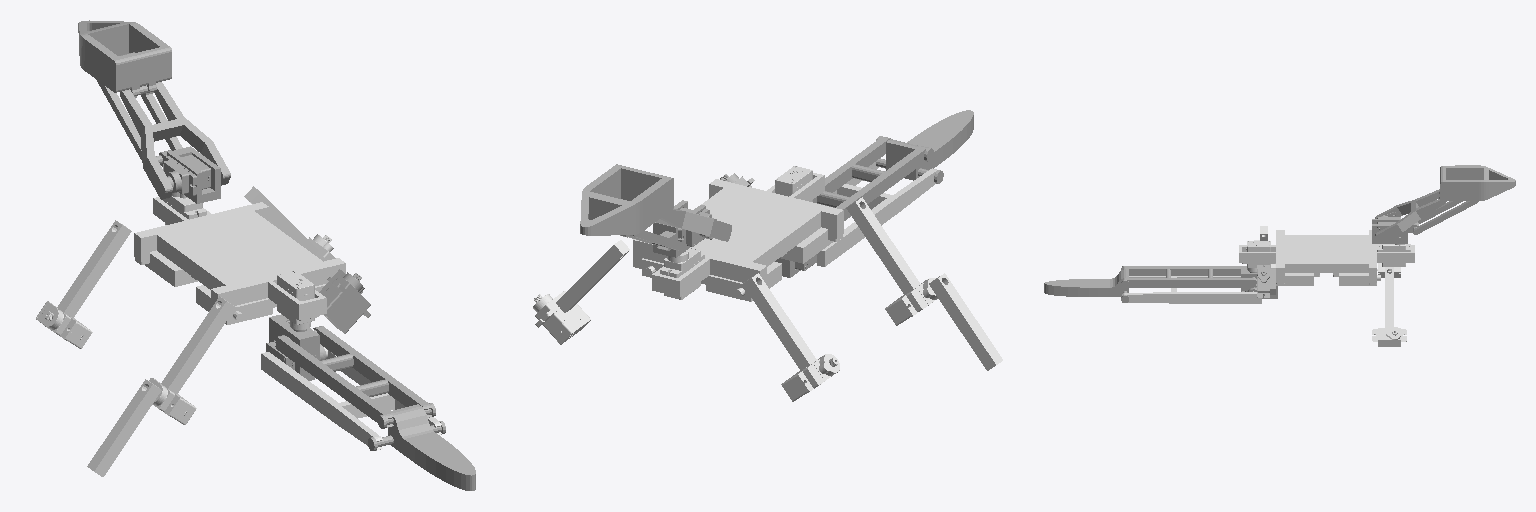
--- Render facts (derived) ---
The picture shows the robot from 3 angles, left to right: view 1: azimuth 30°, elevation 25°; view 2: azimuth 150°, elevation 25°; view 3: azimuth 270°, elevation 25°; orthographic projection.
Robot: barabasz — 23 links, 22 joints (22 continuous); root link MainBoard; default pose: every joint at zero.
Visible links, largest first — view 1: MainBoard, HEADParallelLink, TAILstArmParallelLink, HEADstArmLink, TAILstArmLink, FLstArmLink, RLstArmLink, TAILParallelLink, HEADndServoLink, RLndArmLink, RRndServoLink, TailndServoLink (+4 smaller); view 2: MainBoard, FLstArmLink, TAILstArmParallelLink, RLstArmLink, FRstArmLink, HEADParallelLink, TAILstArmLink, HEADLink, RLndArmLink, TAILParallelLink, TAILLink, HEADstArmLink (+2 smaller); view 3: MainBoard, TAILstArmParallelLink, HEADLink, TAILstArmLink, TAILParallelLink, HEADstArmLink, FRstArmLink, HEADstArmParallelLink, HEADndServoLink, RRndServoLink.
Boxes of the visible links, <box> form: MainBoard: <box>134,192,345,329</box>; HEADParallelLink: <box>78,23,171,97</box>; TAILstArmParallelLink: <box>275,326,431,427</box>; HEADstArmLink: <box>120,82,230,199</box>; TAILstArmLink: <box>261,347,441,450</box>; FLstArmLink: <box>36,220,131,348</box>; RLstArmLink: <box>149,296,235,424</box>; TAILParallelLink: <box>371,403,475,490</box>; HEADndServoLink: <box>159,146,220,203</box>; RLndArmLink: <box>87,379,161,476</box>; RRndServoLink: <box>319,269,370,333</box>; TailndServoLink: <box>266,314,325,380</box>; MainBoard: <box>633,166,843,301</box>; FLstArmLink: <box>743,273,839,401</box>; TAILstArmParallelLink: <box>813,137,928,220</box>; RLstArmLink: <box>846,197,937,325</box>; FRstArmLink: <box>533,240,629,344</box>; HEADParallelLink: <box>588,164,673,236</box>; TAILstArmLink: <box>817,162,936,266</box>; HEADLink: <box>580,165,661,237</box>; RLndArmLink: <box>929,273,1002,370</box>; TAILParallelLink: <box>876,110,973,179</box>; TAILLink: <box>876,115,973,183</box>; HEADstArmLink: <box>656,208,731,241</box>; MainBoard: <box>1239,230,1414,285</box>; TAILstArmParallelLink: <box>1122,266,1256,287</box>; HEADLink: <box>1439,168,1515,201</box>; TAILstArmLink: <box>1122,276,1261,303</box>; TAILParallelLink: <box>1044,266,1128,302</box>; HEADstArmLink: <box>1375,189,1445,243</box>; FRstArmLink: <box>1372,267,1406,346</box>; HEADstArmParallelLink: <box>1413,201,1477,234</box>; HEADndServoLink: <box>1372,215,1418,243</box>; RRndServoLink: <box>1257,265,1275,297</box>.
Size in the robot's own frame: 0.2323 by 0.4435 by 0.1644 metres.
16 mesh visuals loaded from 23 distinct referenced files (16 binary STL); not drawn: 7 (reference not matched to a file when rendering).

The robot description file, URDF, robot "barabasz":
<?xml version="1.0" encoding="utf-8"?>
<!-- This URDF was automatically created by SolidWorks to URDF Exporter! Originally created by Stephen Brawner ([email redacted])
     Commit Version: 1.5.0-0-g9aa0fdb  Build Version: 1.5.7004.21443
     For more information, please see http://wiki.ros.org/sw_urdf_exporter -->
<robot
  name="barabasz">
  <link
    name="MainBoard">
    <inertial>
      <origin
        xyz="0.0320000193091435 0.0395027228412031 -0.00887228498305923"
        rpy="0 0 0" />
      <mass
        value="0.129368445562822" />
      <inertia
        ixx="8.48084091160014E-05"
        ixy="2.93923351652188E-15"
        ixz="2.06187013678502E-15"
        iyy="3.18110038223056E-05"
        iyz="-1.94866907025266E-08"
        izz="0.000114276211083158" />
    </inertial>
    <visual>
      <origin
        xyz="0 0 0"
        rpy="0 0 0" />
      <geometry>
        <mesh
          filename="package://lizardv3_description/meshes/MainBoard.STL" />
      </geometry>
      <material
        name="">
        <color
          rgba="0.92156862745098 0.92156862745098 0.92156862745098 1" />
      </material>
    </visual>
    <collision>
      <origin
        xyz="0 0 0"
        rpy="0 0 0" />
      <geometry>
        <mesh
          filename="package://lizardv3_description/meshes/MainBoard.STL" />
      </geometry>
    </collision>
  </link>
  <link
    name="FRndServoLink">
    <inertial>
      <origin
        xyz="0.00980168634688897 0.00502207563388984 0.00196275735380311"
        rpy="0 0 0" />
      <mass
        value="0.00898215948151009" />
      <inertia
        ixx="5.02863360750936E-07"
        ixy="4.18675151934187E-10"
        ixz="3.94807696352951E-11"
        iyy="3.74381836870733E-07"
        iyz="-1.31121128677089E-07"
        izz="3.05060718459654E-07" />
    </inertial>
    <visual>
      <origin
        xyz="0 0 0"
        rpy="0 0 0" />
      <geometry>
        <mesh
          filename="package://lizardv3_description/meshes/FRndServoLink.STL" />
      </geometry>
      <material
        name="">
        <color
          rgba="0.749019607843137 0.749019607843137 0.749019607843137 1" />
      </material>
    </visual>
    <collision>
      <origin
        xyz="0 0 0"
        rpy="0 0 0" />
      <geometry>
        <mesh
          filename="package://lizardv3_description/meshes/FRndServoLink.STL" />
      </geometry>
    </collision>
  </link>
  <joint
    name="FRndServoJnt"
    type="continuous">
    <origin
      xyz="0.0615 0.087 -0.016"
      rpy="3.1416 0 1.5708" />
    <parent
      link="MainBoard" />
    <child
      link="FRndServoLink" />
    <axis
      xyz="-1 0 0" />
    <safety_controller
      k_velocity="0" />
  </joint>
  <link
    name="FRstArmLink">
    <inertial>
      <origin
        xyz="-0.050087587173191 0.00194912579241757 0.000253934431876823"
        rpy="0 0 0" />
      <mass
        value="0.0107279118401016" />
      <inertia
        ixx="4.12846705736316E-07"
        ixy="-3.43063723092757E-12"
        ixz="7.44940299377242E-12"
        iyy="1.46713624981902E-06"
        iyz="-9.74334437552982E-09"
        izz="1.1962482651399E-06" />
    </inertial>
    <visual>
      <origin
        xyz="0 0 0"
        rpy="0 0 0" />
      <geometry>
        <mesh
          filename="package://lizardv3_description/meshes/FRstArmLink.STL" />
      </geometry>
      <material
        name="">
        <color
          rgba="0.92156862745098 0.92156862745098 0.92156862745098 1" />
      </material>
    </visual>
    <collision>
      <origin
        xyz="0 0 0"
        rpy="0 0 0" />
      <geometry>
        <mesh
          filename="package://lizardv3_description/meshes/FRstArmLink.STL" />
      </geometry>
    </collision>
  </link>
  <joint
    name="FRstArmJnt"
    type="continuous">
    <origin
      xyz="0.01165 0.012199 -0.010432"
      rpy="-1.5708 0.87266 -1.5708" />
    <parent
      link="FRndServoLink" />
    <child
      link="FRstArmLink" />
    <axis
      xyz="0 -1 0" />
    <safety_controller
      k_velocity="0" />
  </joint>
  <link
    name="FRndArmLink">
    <inertial>
      <origin
        xyz="1.66533453693773E-16 0.00400000000000231 0.0271089217366474"
        rpy="0 0 0" />
      <mass
        value="0.0036829203673205" />
      <inertia
        ixx="1.06068205884601E-06"
        ixy="-2.61078880837049E-23"
        ixz="-3.15670781781632E-21"
        iyy="1.0612743799609E-06"
        iyz="-9.53408506083935E-23"
        izz="3.98768050329809E-08" />
    </inertial>
    <visual>
      <origin
        xyz="0 0 0"
        rpy="0 0 0" />
      <geometry>
        <mesh
          filename="package://lizardv3_description/meshes/FRndArmLink.STL" />
      </geometry>
      <material
        name="">
        <color
          rgba="0.92156862745098 0.92156862745098 0.92156862745098 1" />
      </material>
    </visual>
    <collision>
      <origin
        xyz="0 0 0"
        rpy="0 0 0" />
      <geometry>
        <mesh
          filename="package://lizardv3_description/meshes/FRndArmLink.STL" />
      </geometry>
    </collision>
  </link>
  <joint
    name="FRndArmJnt"
    type="continuous">
    <origin
      xyz="-0.0621 0.0150500000002124 0.00515000000000268"
      rpy="1.64274156972154 -1.57079631189374 -1.64274415968957" />
    <parent
      link="FRstArmLink" />
    <child
      link="FRndArmLink" />
    <axis
      xyz="0 -1 0" />
    <safety_controller
      k_velocity="0" />
  </joint>
  <link
    name="FLndServoLink">
    <inertial>
      <origin
        xyz="0.0050221 0.0098014 0.0019628"
        rpy="0 0 0" />
      <mass
        value="0.0089822" />
      <inertia
        ixx="3.7438E-07"
        ixy="4.0384E-10"
        ixz="-1.3112E-07"
        iyy="5.0286E-07"
        iyz="3.248E-11"
        izz="3.0506E-07" />
    </inertial>
    <visual>
      <origin
        xyz="0 0 0"
        rpy="0 0 0" />
      <geometry>
        <mesh
          filename="package://lizardv3_description/meshes/FLndServoLink.STL" />
      </geometry>
      <material
        name="">
        <color
          rgba="1 0.94902 0.9098 1" />
      </material>
    </visual>
    <collision>
      <origin
        xyz="0 0 0"
        rpy="0 0 0" />
      <geometry>
        <mesh
          filename="package://lizardv3_description/meshes/FLndServoLink.STL" />
      </geometry>
    </collision>
  </link>
  <joint
    name="FLndServoJnt"
    type="continuous">
    <origin
      xyz="0.00250000000000065 0.0869999999999997 -0.016"
      rpy="-3.14159265358979 0 3.14159265358979" />
    <parent
      link="MainBoard" />
    <child
      link="FLndServoLink" />
    <axis
      xyz="0 -1 0" />
    <safety_controller
      k_velocity="0" />
  </joint>
  <link
    name="FLstArmLink">
    <inertial>
      <origin
        xyz="-0.0500875873328301 0.00194912587509953 0.000253934473360917"
        rpy="0 0 0" />
      <mass
        value="0.0107279119437584" />
      <inertia
        ixx="4.12846707912603E-07"
        ixy="-3.42949742563357E-12"
        ixz="7.45129949397818E-12"
        iyy="1.46713625367284E-06"
        iyz="-9.74334532607003E-09"
        izz="1.19624826799648E-06" />
    </inertial>
    <visual>
      <origin
        xyz="0 0 0"
        rpy="0 0 0" />
      <geometry>
        <mesh
          filename="package://lizardv3_description/meshes/FLstArmLink.STL" />
      </geometry>
      <material
        name="">
        <color
          rgba="0.92156862745098 0.92156862745098 0.92156862745098 1" />
      </material>
    </visual>
    <collision>
      <origin
        xyz="0 0 0"
        rpy="0 0 0" />
      <geometry>
        <mesh
          filename="package://lizardv3_description/meshes/FLstArmLink.STL" />
      </geometry>
    </collision>
  </link>
  <joint
    name="FLstArmJnt"
    type="continuous">
    <origin
      xyz="0.0121985951706078 0.0116500000000019 -0.0104316478019355"
      rpy="-1.57079632679489 0.872664625997144 3.14159265358978" />
    <parent
      link="FLndServoLink" />
    <child
      link="FLstArmLink" />
    <axis
      xyz="0 -1 0" />
    <safety_controller
      k_velocity="0" />
  </joint>
  <link
    name="FLndArmLink">
    <inertial>
      <origin
        xyz="1.77635683940025E-15 0.00400000000000253 0.0271089217366467"
        rpy="0 0 0" />
      <mass
        value="0.00368292036732051" />
      <inertia
        ixx="1.06068205884601E-06"
        ixy="-1.47083052669585E-23"
        ixz="-2.75851809589364E-22"
        iyy="1.06127437996091E-06"
        iyz="1.81076136779072E-21"
        izz="3.98768050329816E-08" />
    </inertial>
    <visual>
      <origin
        xyz="0 0 0"
        rpy="0 0 0" />
      <geometry>
        <mesh
          filename="package://lizardv3_description/meshes/FLndArmLink.STL" />
      </geometry>
      <material
        name="">
        <color
          rgba="0.92156862745098 0.92156862745098 0.92156862745098 1" />
      </material>
    </visual>
    <collision>
      <origin
        xyz="0 0 0"
        rpy="0 0 0" />
      <geometry>
        <mesh
          filename="package://lizardv3_description/meshes/FLndArmLink.STL" />
      </geometry>
    </collision>
  </link>
  <joint
    name="FLndArmJnt"
    type="continuous">
    <origin
      xyz="-0.0621 0.01505 0.00515"
      rpy="-1.9544 -1.5708 1.9544" />
    <parent
      link="FLstArmLink" />
    <child
      link="FLndArmLink" />
    <axis
      xyz="0 -1 0" />
    <safety_controller
      k_velocity="0" />
  </joint>
  <link
    name="RLndServoLink">
    <inertial>
      <origin
        xyz="0.0050221 0.0098017 -0.0019628"
        rpy="0 0 0" />
      <mass
        value="0.0089822" />
      <inertia
        ixx="3.7438E-07"
        ixy="4.1867E-10"
        ixz="1.3112E-07"
        iyy="5.0286E-07"
        iyz="-3.948E-11"
        izz="3.0506E-07" />
    </inertial>
    <visual>
      <origin
        xyz="0 0 0"
        rpy="0 0 0" />
      <geometry>
        <mesh
          filename="package://lizardv3_description/meshes/RLndServoLink.STL" />
      </geometry>
      <material
        name="">
        <color
          rgba="1 0.94902 0.9098 1" />
      </material>
    </visual>
    <collision>
      <origin
        xyz="0 0 0"
        rpy="0 0 0" />
      <geometry>
        <mesh
          filename="package://lizardv3_description/meshes/RLndServoLink.STL" />
      </geometry>
    </collision>
  </link>
  <joint
    name="RLndServoJnt"
    type="continuous">
    <origin
      xyz="0.00249999999999984 -0.00799999999999976 -0.016"
      rpy="0 0 -3.14159265358979" />
    <parent
      link="MainBoard" />
    <child
      link="RLndServoLink" />
    <axis
      xyz="0 -1 0" />
    <safety_controller
      k_velocity="0" />
  </joint>
  <link
    name="RLstArmLink">
    <inertial>
      <origin
        xyz="-0.0500875871726907 0.00194912579210623 0.000253934431699035"
        rpy="0 0 0" />
      <mass
        value="0.010727911839871" />
      <inertia
        ixx="4.12846705720797E-07"
        ixy="-3.43064372608672E-12"
        ixz="7.44939574750122E-12"
        iyy="1.46713624980483E-06"
        iyz="-9.74334437108359E-09"
        izz="1.1962482651381E-06" />
    </inertial>
    <visual>
      <origin
        xyz="0 0 0"
        rpy="0 0 0" />
      <geometry>
        <mesh
          filename="package://lizardv3_description/meshes/RLstArmLink.STL" />
      </geometry>
      <material
        name="">
        <color
          rgba="0.92156862745098 0.92156862745098 0.92156862745098 1" />
      </material>
    </visual>
    <collision>
      <origin
        xyz="0 0 0"
        rpy="0 0 0" />
      <geometry>
        <mesh
          filename="package://lizardv3_description/meshes/RLstArmLink.STL" />
      </geometry>
    </collision>
  </link>
  <joint
    name="RLstArmJnt"
    type="continuous">
    <origin
      xyz="0.0121985951706048 0.0116500000000019 0.0104316478019361"
      rpy="1.57079632679489 -0.872664625997154 3.14159265358979" />
    <parent
      link="RLndServoLink" />
    <child
      link="RLstArmLink" />
    <axis
      xyz="0 -1 0" />
    <safety_controller
      k_velocity="0" />
  </joint>
  <link
    name="RLndArmLink">
    <inertial>
      <origin
        xyz="-6.07153216591882E-16 0.00400000000000033 0.027108921736649"
        rpy="0 0 0" />
      <mass
        value="0.00368292036732051" />
      <inertia
        ixx="1.06068205884601E-06"
        ixy="-8.68539643180679E-24"
        ixz="-4.73767695839747E-22"
        iyy="1.0612743799609E-06"
        iyz="2.94088321938143E-21"
        izz="3.98768050329813E-08" />
    </inertial>
    <visual>
      <origin
        xyz="0 0 0"
        rpy="0 0 0" />
      <geometry>
        <mesh
          filename="package://lizardv3_description/meshes/RLndArmLink.STL" />
      </geometry>
      <material
        name="">
        <color
          rgba="0.92156862745098 0.92156862745098 0.92156862745098 1" />
      </material>
    </visual>
    <collision>
      <origin
        xyz="0 0 0"
        rpy="0 0 0" />
      <geometry>
        <mesh
          filename="package://lizardv3_description/meshes/RLndArmLink.STL" />
      </geometry>
    </collision>
  </link>
  <joint
    name="RLndArmJnt"
    type="continuous">
    <origin
      xyz="-0.0621 0.0150500000000294 0.00514999999999813"
      rpy="1.65099348915861 -1.57079631189374 -1.65101528723285" />
    <parent
      link="RLstArmLink" />
    <child
      link="RLndArmLink" />
    <axis
      xyz="0 -1 0" />
    <safety_controller
      k_velocity="0" />
  </joint>
  <link
    name="RRndServoLink">
    <inertial>
      <origin
        xyz="0.0050221 0.0098014 0.0019628"
        rpy="0 0 0" />
      <mass
        value="0.0089822" />
      <inertia
        ixx="3.7438E-07"
        ixy="4.0384E-10"
        ixz="-1.3112E-07"
        iyy="5.0286E-07"
        iyz="3.2482E-11"
        izz="3.0506E-07" />
    </inertial>
    <visual>
      <origin
        xyz="0 0 0"
        rpy="0 0 0" />
      <geometry>
        <mesh
          filename="package://lizardv3_description/meshes/RRndServoLink.STL" />
      </geometry>
      <material
        name="">
        <color
          rgba="0.74902 0.74902 0.74902 1" />
      </material>
    </visual>
    <collision>
      <origin
        xyz="0 0 0"
        rpy="0 0 0" />
      <geometry>
        <mesh
          filename="package://lizardv3_description/meshes/RRndServoLink.STL" />
      </geometry>
    </collision>
  </link>
  <joint
    name="RRndServoJnt"
    type="continuous">
    <origin
      xyz="0.0614999999999987 -0.00800000000000062 -0.0160000000000014"
      rpy="3.14159265358979 0 0" />
    <parent
      link="MainBoard" />
    <child
      link="RRndServoLink" />
    <axis
      xyz="0 -1 0" />
    <safety_controller
      k_velocity="0" />
  </joint>
  <link
    name="RRstArmLink">
    <inertial>
      <origin
        xyz="-0.050088 0.0019491 0.00025393"
        rpy="0 0 0" />
      <mass
        value="0.010728" />
      <inertia
        ixx="4.1285E-07"
        ixy="-3.4306E-12"
        ixz="7.4494E-12"
        iyy="1.4671E-06"
        iyz="-9.7433E-09"
        izz="1.1962E-06" />
    </inertial>
    <visual>
      <origin
        xyz="0 0 0"
        rpy="0 0 0" />
      <geometry>
        <mesh
          filename="package://lizardv3_description/meshes/RRstArmLink.STL" />
      </geometry>
      <material
        name="">
        <color
          rgba="0.92157 0.92157 0.92157 1" />
      </material>
    </visual>
    <collision>
      <origin
        xyz="0 0 0"
        rpy="0 0 0" />
      <geometry>
        <mesh
          filename="package://lizardv3_description/meshes/RRstArmLink.STL" />
      </geometry>
    </collision>
  </link>
  <joint
    name="RRstArmJnt"
    type="continuous">
    <origin
      xyz="0.0121985951706034 0.0116500000000019 -0.0104316478019393"
      rpy="-1.57079632679489 0.872664625997156 3.14159265358979" />
    <parent
      link="RRndServoLink" />
    <child
      link="RRstArmLink" />
    <axis
      xyz="0 -1 0" />
    <safety_controller
      k_velocity="0" />
  </joint>
  <link
    name="RRndArmLink">
    <inertial>
      <origin
        xyz="-2.77555756156289E-17 0.00400000000000003 0.0271089217366482"
        rpy="0 0 0" />
      <mass
        value="0.00368292036732051" />
      <inertia
        ixx="1.06068205884601E-06"
        ixy="-4.80798731046447E-24"
        ixz="1.0857149436542E-21"
        iyy="1.0612743799609E-06"
        iyz="-5.94009095143748E-22"
        izz="3.9876805032981E-08" />
    </inertial>
    <visual>
      <origin
        xyz="0 0 0"
        rpy="0 0 0" />
      <geometry>
        <mesh
          filename="package://lizardv3_description/meshes/RRndArmLink.STL" />
      </geometry>
      <material
        name="">
        <color
          rgba="0.92156862745098 0.92156862745098 0.92156862745098 1" />
      </material>
    </visual>
    <collision>
      <origin
        xyz="0 0 0"
        rpy="0 0 0" />
      <geometry>
        <mesh
          filename="package://lizardv3_description/meshes/RRndArmLink.STL" />
      </geometry>
    </collision>
  </link>
  <joint
    name="RRndArmJnt"
    type="continuous">
    <origin
      xyz="-0.0621 0.01505 0.00515"
      rpy="-1.3846 -1.5708 1.3846" />
    <parent
      link="RRstArmLink" />
    <child
      link="RRndArmLink" />
    <axis
      xyz="0 -1 0" />
    <safety_controller
      k_velocity="0" />
  </joint>
  <link
    name="HEADndServoLink">
    <inertial>
      <origin
        xyz="0.00817073701079046 -0.00971625046859658 0.00145467719884415"
        rpy="0 0 0" />
      <mass
        value="0.0121934443229411" />
      <inertia
        ixx="4.23955060797601E-07"
        ixy="-9.10853302793211E-08"
        ixz="-1.63814913779297E-08"
        iyy="1.21995274972379E-06"
        iyz="-8.11641325007153E-09"
        izz="1.31199137763511E-06" />
    </inertial>
    <visual>
      <origin
        xyz="0 0 0"
        rpy="0 0 0" />
      <geometry>
        <mesh
          filename="package://lizardv3_description/meshes/HEADndServoLink.STL" />
      </geometry>
      <material
        name="">
        <color
          rgba="0.749019607843137 0.749019607843137 0.749019607843137 1" />
      </material>
    </visual>
    <collision>
      <origin
        xyz="0 0 0"
        rpy="0 0 0" />
      <geometry>
        <mesh
          filename="package://lizardv3_description/meshes/HEADndServoLink.STL" />
      </geometry>
    </collision>
  </link>
  <joint
    name="HEADndServoJnt"
    type="continuous">
    <origin
      xyz="0.0319999999999842 0.108299999999999 0.0110499999999986"
      rpy="-1.5707963267949 0 -1.5707963267949" />
    <parent
      link="MainBoard" />
    <child
      link="HEADndServoLink" />
    <axis
      xyz="0 1 0" />
    <safety_controller
      k_velocity="0" />
  </joint>
  <link
    name="HEADstArmLink">
    <inertial>
      <origin
        xyz="-0.025127 0.013481 0.014507"
        rpy="0 0 0" />
      <mass
        value="0.0078839" />
      <inertia
        ixx="2.3678E-06"
        ixy="-8.5123E-08"
        ixz="1.304E-06"
        iyy="3.1243E-06"
        iyz="4.9146E-08"
        izz="3.8735E-06" />
    </inertial>
    <visual>
      <origin
        xyz="0 0 0"
        rpy="0 0 0" />
      <geometry>
        <mesh
          filename="package://lizardv3_description/meshes/HEADstArmLink.STL" />
      </geometry>
      <material
        name="">
        <color
          rgba="0.74902 0.74902 0.74902 1" />
      </material>
    </visual>
    <collision>
      <origin
        xyz="0 0 0"
        rpy="0 0 0" />
      <geometry>
        <mesh
          filename="package://lizardv3_description/meshes/HEADstArmLink.STL" />
      </geometry>
    </collision>
  </link>
  <joint
    name="HEADstArmJnt"
    type="continuous">
    <origin
      xyz="0.015 -0.0114 -0.01455"
      rpy="1.5708 0 0" />
    <parent
      link="HEADndServoLink" />
    <child
      link="HEADstArmLink" />
    <axis
      xyz="0 1 0" />
    <safety_controller
      k_velocity="0" />
  </joint>
  <link
    name="HEADLink">
    <inertial>
      <origin
        xyz="0.0554988766394613 0.00799999970901315 -0.00147454938363152"
        rpy="0 0 0" />
      <mass
        value="0.0177300364754162" />
      <inertia
        ixx="4.41581214683472E-06"
        ixy="-1.54454845134354E-12"
        ixz="2.20726693817977E-06"
        iyy="7.03739587968143E-06"
        iyz="4.16679611856128E-13"
        izz="8.27777171343773E-06" />
    </inertial>
    <visual>
      <origin
        xyz="0 0 0"
        rpy="0 0 0" />
      <geometry>
        <mesh
          filename="package://lizardv3_description/meshes/HEADLink.STL" />
      </geometry>
      <material
        name="">
        <color
          rgba="0.749019607843137 0.749019607843137 0.749019607843137 1" />
      </material>
    </visual>
    <collision>
      <origin
        xyz="0 0 0"
        rpy="0 0 0" />
      <geometry>
        <mesh
          filename="package://lizardv3_description/meshes/HEADLink.STL" />
      </geometry>
    </collision>
  </link>
  <joint
    name="HEADJnt"
    type="continuous">
    <origin
      xyz="-0.029976 0.0215 0.02308"
      rpy="0 -0.43294 -3.1416" />
    <parent
      link="HEADstArmLink" />
    <child
      link="HEADLink" />
    <axis
      xyz="0 1 0" />
    <safety_controller
      k_velocity="0" />
  </joint>
  <link
    name="HEADstArmParallelLink">
    <inertial>
      <origin
        xyz="-0.0122501451765017 0.00455000000000488 0.035245741804803"
        rpy="0 0 0" />
      <mass
        value="0.00373003311748238" />
      <inertia
        ixx="1.76654564691896E-06"
        ixy="1.02089597225529E-21"
        ixz="8.1677668885244E-07"
        iyy="1.9009569588329E-06"
        iyz="-1.64562412988596E-21"
        izz="8.23435633498772E-07" />
    </inertial>
    <visual>
      <origin
        xyz="0 0 0"
        rpy="0 0 0" />
      <geometry>
        <mesh
          filename="package://lizardv3_description/meshes/HEADstArmParallelLink.STL" />
      </geometry>
      <material
        name="">
        <color
          rgba="0.749019607843137 0.749019607843137 0.749019607843137 1" />
      </material>
    </visual>
    <collision>
      <origin
        xyz="0 0 0"
        rpy="0 0 0" />
      <geometry>
        <mesh
          filename="package://lizardv3_description/meshes/HEADstArmParallelLink.STL" />
      </geometry>
    </collision>
  </link>
  <joint
    name="HEADstArmParallelLJnt"
    type="continuous">
    <origin
      xyz="-0.0079 -0.0155 0.0035"
      rpy="-1.5708 0 1.5708" />
    <parent
      link="HEADndServoLink" />
    <child
      link="HEADstArmParallelLink" />
    <axis
      xyz="0 1 0" />
    <safety_controller
      k_velocity="0" />
  </joint>
  <link
    name="HEADParallelLink">
    <inertial>
      <origin
        xyz="-0.01342 -0.0002311 0.0126"
        rpy="0 0 0" />
      <mass
        value="0.01773" />
      <inertia
        ixx="7.8539E-06"
        ixy="2.5011E-06"
        ixz="-2.7193E-07"
        iyy="4.8653E-06"
        iyz="2.3576E-07"
        izz="7.0118E-06" />
    </inertial>
    <visual>
      <origin
        xyz="0 0 0"
        rpy="0 0 0" />
      <geometry>
        <mesh
          filename="package://lizardv3_description/meshes/HEADParallelLink.STL" />
      </geometry>
      <material
        name="">
        <color
          rgba="0.74902 0.74902 0.74902 1" />
      </material>
    </visual>
    <collision>
      <origin
        xyz="0 0 0"
        rpy="0 0 0" />
      <geometry>
        <mesh
          filename="package://lizardv3_description/meshes/HEADParallelLink.STL" />
      </geometry>
    </collision>
  </link>
  <joint
    name="HEADParallelJnt"
    type="continuous">
    <origin
      xyz="-0.0285 -0.00795 0.063391"
      rpy="-1.4626 -0.52244 0.00014562" />
    <parent
      link="HEADstArmParallelLink" />
    <child
      link="HEADParallelLink" />
    <axis
      xyz="0.0001262 0.10805 0.99415" />
    <safety_controller
      k_velocity="0" />
  </joint>
  <link
    name="TailndServoLink">
    <inertial>
      <origin
        xyz="-0.0048574 -0.016189 0.0010767"
        rpy="0 0 0" />
      <mass
        value="0.015139" />
      <inertia
        ixx="7.7721E-07"
        ixy="-7.035E-09"
        ixz="1.3267E-08"
        iyy="1.4848E-06"
        iyz="3.8044E-08"
        izz="1.876E-06" />
    </inertial>
    <visual>
      <origin
        xyz="0 0 0"
        rpy="0 0 0" />
      <geometry>
        <mesh
          filename="package://lizardv3_description/meshes/TailndServoLink.STL" />
      </geometry>
      <material
        name="">
        <color
          rgba="0.74902 0.74902 0.74902 1" />
      </material>
    </visual>
    <collision>
      <origin
        xyz="0 0 0"
        rpy="0 0 0" />
      <geometry>
        <mesh
          filename="package://lizardv3_description/meshes/TailndServoLink.STL" />
      </geometry>
    </collision>
  </link>
  <joint
    name="TailndServoJnt"
    type="continuous">
    <origin
      xyz="0.032 -0.02925 -0.02105"
      rpy="1.5708 0 -1.5708" />
    <parent
      link="MainBoard" />
    <child
      link="TailndServoLink" />
    <axis
      xyz="0 1 0" />
    <safety_controller
      k_velocity="0" />
  </joint>
  <link
    name="TAILstArmLink">
    <inertial>
      <origin
        xyz="0.0054385 0.018255 0.042426"
        rpy="0 0 0" />
      <mass
        value="0.013285" />
      <inertia
        ixx="1.5067E-05"
        ixy="-1.6352E-10"
        ixz="1.9782E-07"
        iyy="1.9317E-05"
        iyz="1.2276E-08"
        izz="4.4632E-06" />
    </inertial>
    <visual>
      <origin
        xyz="0 0 0"
        rpy="0 0 0" />
      <geometry>
        <mesh
          filename="package://lizardv3_description/meshes/TAILstArmLink.STL" />
      </geometry>
      <material
        name="">
        <color
          rgba="0.92157 0.92157 0.92157 1" />
      </material>
    </visual>
    <collision>
      <origin
        xyz="0 0 0"
        rpy="0 0 0" />
      <geometry>
        <mesh
          filename="package://lizardv3_description/meshes/TAILstArmLink.STL" />
      </geometry>
    </collision>
  </link>
  <joint
    name="TAILstArmJnt"
    type="continuous">
    <origin
      xyz="0.01235 -0.002 -0.00545"
      rpy="1.019 -1.5708 2.1225" />
    <parent
      link="TailndServoLink" />
    <child
      link="TAILstArmLink" />
    <axis
      xyz="1 0 0" />
    <safety_controller
      k_velocity="0" />
  </joint>
  <link
    name="TAILLink">
    <inertial>
      <origin
        xyz="0.0693819489154556 0.00236468450873411 0.0174996318739005"
        rpy="0 0 0" />
      <mass
        value="0.0170255571844121" />
      <inertia
        ixx="1.10748675129764E-06"
        ixy="5.92827428438699E-07"
        ixz="2.68673058943583E-10"
        iyy="9.48088608953699E-06"
        iyz="-2.33873685029435E-12"
        izz="9.05157957329576E-06" />
    </inertial>
    <visual>
      <origin
        xyz="0 0 0"
        rpy="0 0 0" />
      <geometry>
        <mesh
          filename="package://lizardv3_description/meshes/TAILLink.STL" />
      </geometry>
      <material
        name="">
        <color
          rgba="0.749019607843137 0.749019607843137 0.749019607843137 1" />
      </material>
    </visual>
    <collision>
      <origin
        xyz="0 0 0"
        rpy="0 0 0" />
      <geometry>
        <mesh
          filename="package://lizardv3_description/meshes/TAILLink.STL" />
      </geometry>
    </collision>
  </link>
  <joint
    name="TAILJnt"
    type="continuous">
    <origin
      xyz="-0.01205 0.018236 0.06515"
      rpy="-1.5708 -1.57 -1.5708" />
    <parent
      link="TAILstArmLink" />
    <child
      link="TAILLink" />
    <axis
      xyz="0 0 1" />
    <safety_controller
      k_velocity="0" />
  </joint>
  <link
    name="TAILstArmParallelLink">
    <inertial>
      <origin
        xyz="0.00570000000000003 -0.04815 0.00754999999999956"
        rpy="0 0 0" />
      <mass
        value="0.0110994579255875" />
      <inertia
        ixx="1.38627444069151E-05"
        ixy="2.62740275207101E-21"
        ixz="-4.75659441497189E-22"
        iyy="1.63407638509854E-06"
        iyz="-3.12746649848643E-21"
        izz="1.23476561550545E-05" />
    </inertial>
    <visual>
      <origin
        xyz="0 0 0"
        rpy="0 0 0" />
      <geometry>
        <mesh
          filename="package://lizardv3_description/meshes/TAILstArmParallelLink.STL" />
      </geometry>
      <material
        name="">
        <color
          rgba="0.749019607843137 0.749019607843137 0.749019607843137 1" />
      </material>
    </visual>
    <collision>
      <origin
        xyz="0 0 0"
        rpy="0 0 0" />
      <geometry>
        <mesh
          filename="package://lizardv3_description/meshes/TAILstArmParallelLink.STL" />
      </geometry>
    </collision>
  </link>
  <joint
    name="TAILstArmParallelJnt"
    type="continuous">
    <origin
      xyz="0.01235 -0.002 0.00755"
      rpy="-3.1416 0 -1.5708" />
    <parent
      link="TailndServoLink" />
    <child
      link="TAILstArmParallelLink" />
    <axis
      xyz="0 0 -1" />
    <safety_controller
      k_velocity="0" />
  </joint>
  <link
    name="TAILParallelLink">
    <inertial>
      <origin
        xyz="0.0638799444695541 -0.0101139262583112 0.00999963187390017"
        rpy="0 0 0" />
      <mass
        value="0.0170255571844121" />
      <inertia
        ixx="1.10651259072902E-06"
        ixy="5.85906456236652E-07"
        ixz="2.68674900034565E-10"
        iyy="9.48186025010561E-06"
        iyz="-2.11669219327405E-12"
        izz="9.05157957329576E-06" />
    </inertial>
    <visual>
      <origin
        xyz="0 0 0"
        rpy="0 0 0" />
      <geometry>
        <mesh
          filename="package://lizardv3_description/meshes/TAILParallelLink.STL" />
      </geometry>
      <material
        name="">
        <color
          rgba="0.749019607843137 0.749019607843137 0.749019607843137 1" />
      </material>
    </visual>
    <collision>
      <origin
        xyz="0 0 0"
        rpy="0 0 0" />
      <geometry>
        <mesh
          filename="package://lizardv3_description/meshes/TAILParallelLink.STL" />
      </geometry>
    </collision>
  </link>
  <joint
    name="TAILParallelJnt"
    type="continuous">
    <origin
      xyz="0.0057 -0.07065 0.01755"
      rpy="-3.1416 0 -1.5708" />
    <parent
      link="TAILstArmParallelLink" />
    <child
      link="TAILParallelLink" />
    <axis
      xyz="0 0 1" />
    <safety_controller
      k_velocity="0" />
  </joint>

  <!-- ################### TRANSMISSION Definitions ############################# -->
  <!-- ################### TRANSMISSION Definitions ############################# -->

  <!-- front right leg -->
  <transmission name="transmission_front_right_leg_1">
    <type>transmission_interface/SimpleTransmission</type>
    <actuator name="servo_front_right_leg_1">
      <mechanicalReduction>1</mechanicalReduction>
      <hardwareInterface>hardware_interface/EffortJointInterface</hardwareInterface>
    </actuator>
    <joint name="FRndServoJnt">
      <hardwareInterface>hardware_interface/EffortJointInterface</hardwareInterface>
    </joint>
  </transmission>

  <transmission name="transmission_front_right_leg_2">
    <type>transmission_interface/SimpleTransmission</type>
    <actuator name="servo_front_right_leg_2">
      <mechanicalReduction>1</mechanicalReduction>
      <hardwareInterface>hardware_interface/EffortJointInterface</hardwareInterface>
    </actuator>
    <joint name="FRstArmJnt">
      <hardwareInterface>hardware_interface/EffortJointInterface</hardwareInterface>
    </joint>
  </transmission>

  <transmission name="transmission_front_right_leg_3">
    <type>transmission_interface/SimpleTransmission</type>
    <actuator name="servo_front_right_leg_3">
      <mechanicalReduction>1</mechanicalReduction>
      <hardwareInterface>hardware_interface/EffortJointInterface</hardwareInterface>
    </actuator>
    <joint name="FRndArmJnt">
      <hardwareInterface>hardware_interface/EffortJointInterface</hardwareInterface>
    </joint>
  </transmission>

  <!-- front left leg -->
  <transmission name="transmission_front_left_leg_1">
    <type>transmission_interface/SimpleTransmission</type>
    <actuator name="servo_front_left_leg_1">
      <mechanicalReduction>1</mechanicalReduction>
      <hardwareInterface>hardware_interface/EffortJointInterface</hardwareInterface>
    </actuator>
    <joint name="FLndServoJnt">
      <hardwareInterface>hardware_interface/EffortJointInterface</hardwareInterface>
    </joint>
  </transmission>

  <transmission name="transmission_front_left_leg_2">
    <type>transmission_interface/SimpleTransmission</type>
    <actuator name="servo_front_left_leg_2">
      <mechanicalReduction>1</mechanicalReduction>
      <hardwareInterface>hardware_interface/EffortJointInterface</hardwareInterface>
    </actuator>
    <joint name="FLstArmJnt">
      <hardwareInterface>hardware_interface/EffortJointInterface</hardwareInterface>
    </joint>
  </transmission>

  <transmission name="transmission_front_left_leg_3">
    <type>transmission_interface/SimpleTransmission</type>
    <actuator name="servo_front_left_leg_3">
      <mechanicalReduction>1</mechanicalReduction>
      <hardwareInterface>hardware_interface/EffortJointInterface</hardwareInterface>
    </actuator>
    <joint name="FLndArmJnt">
      <hardwareInterface>hardware_interface/EffortJointInterface</hardwareInterface>
    </joint>
  </transmission>

  <!-- rear right leg -->
  <transmission name="transmission_rear_right_leg_1">
    <type>transmission_interface/SimpleTransmission</type>
    <actuator name="servo_rear_right_leg_1">
      <mechanicalReduction>1</mechanicalReduction>
      <hardwareInterface>hardware_interface/EffortJointInterface</hardwareInterface>
    </actuator>
    <joint name="RRndServoJnt">
      <hardwareInterface>hardware_interface/EffortJointInterface</hardwareInterface>
    </joint>
  </transmission>

  <transmission name="transmission_rear_right_leg_2">
    <type>transmission_interface/SimpleTransmission</type>
    <actuator name="servo_rear_right_leg_2">
      <mechanicalReduction>1</mechanicalReduction>
      <hardwareInterface>hardware_interface/EffortJointInterface</hardwareInterface>
    </actuator>
    <joint name="RRstArmJnt">
      <hardwareInterface>hardware_interface/EffortJointInterface</hardwareInterface>
    </joint>
  </transmission>

  <transmission name="transmission_rear_right_leg_3">
    <type>transmission_interface/SimpleTransmission</type>
    <actuator name="servo_rear_right_leg_3">
      <mechanicalReduction>1</mechanicalReduction>
      <hardwareInterface>hardware_interface/EffortJointInterface</hardwareInterface>
    </actuator>
    <joint name="RRndArmJnt">
      <hardwareInterface>hardware_interface/EffortJointInterface</hardwareInterface>
    </joint>
  </transmission>

  <!-- rear left leg -->
  <transmission name="transmission_rear_left_leg_1">
    <type>transmission_interface/SimpleTransmission</type>
    <actuator name="servo_rear_left_leg_1">
      <mechanicalReduction>1</mechanicalReduction>
      <hardwareInterface>hardware_interface/EffortJointInterface</hardwareInterface>
    </actuator>
    <joint name="RLndServoJnt">
      <hardwareInterface>hardware_interface/EffortJointInterface</hardwareInterface>
    </joint>
  </transmission>

  <transmission name="transmission_rear_left_leg_2">
    <type>transmission_interface/SimpleTransmission</type>
    <actuator name="servo_rear_left_leg_2">
      <mechanicalReduction>1</mechanicalReduction>
      <hardwareInterface>hardware_interface/EffortJointInterface</hardwareInterface>
    </actuator>
    <joint name="RLstArmJnt">
      <hardwareInterface>hardware_interface/EffortJointInterface</hardwareInterface>
    </joint>
  </transmission>

  <transmission name="transmission_rear_left_leg_3">
    <type>transmission_interface/SimpleTransmission</type>
    <actuator name="servo_rear_left_leg_3">
      <mechanicalReduction>1</mechanicalReduction>
      <hardwareInterface>hardware_interface/EffortJointInterface</hardwareInterface>
    </actuator>
    <joint name="RLndArmJnt">
      <hardwareInterface>hardware_interface/EffortJointInterface</hardwareInterface>
    </joint>
  </transmission>

  <!-- ################### MATERIALS Definitions ############################# -->
  <!-- ################### MATERIALS Definitions ############################# -->

  <!-- ################### SENSOR Definitions ############################# -->
  <!-- ################### SENSOR Definitions ############################# -->

  <gazebo>
    <plugin filename="libgazebo_ros_imu.so" name="gazebo_ros_imu_controller">
      <robotNamespace>/barabasz</robotNamespace>
      <topicName>imu/data</topicName>
      <serviceName>imu/service</serviceName>
      <bodyName>MainBoard</bodyName>
      <gaussianNoise>0</gaussianNoise>
      <rpyOffsets>0 0 0</rpyOffsets>
      <updateRate>10.0</updateRate>
      <alwaysOn>true</alwaysOn>
      <gaussianNoise>0</gaussianNoise>
    </plugin>
  </gazebo>


  <!-- ################### GAZEBO PLUGINS Definitions ############################# -->
  <!-- ################### GAZEBO PLUGINS Definitions ############################# -->

  <gazebo>
      <plugin filename="libgazebo_ros_control.so" name="gazebo_ros_control">
        <robotNamespace>/barabasz</robotNamespace>
      </plugin>
  </gazebo>
</robot>
